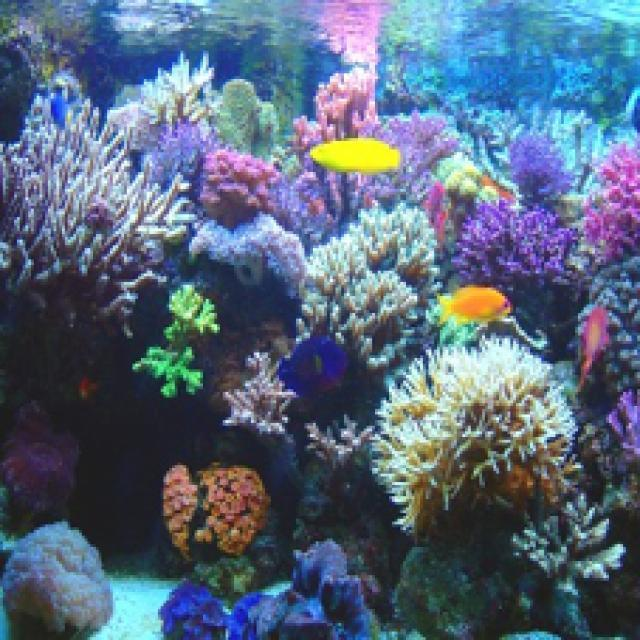Healthy: (387, 352, 572, 521), (8, 143, 180, 295), (316, 207, 427, 341), (8, 533, 113, 640), (460, 202, 577, 286), (168, 468, 265, 553), (579, 148, 640, 264), (173, 589, 296, 640), (199, 149, 277, 227), (296, 550, 356, 640), (211, 86, 282, 150), (514, 132, 577, 198), (316, 72, 381, 134), (164, 283, 221, 344), (142, 350, 205, 398)
